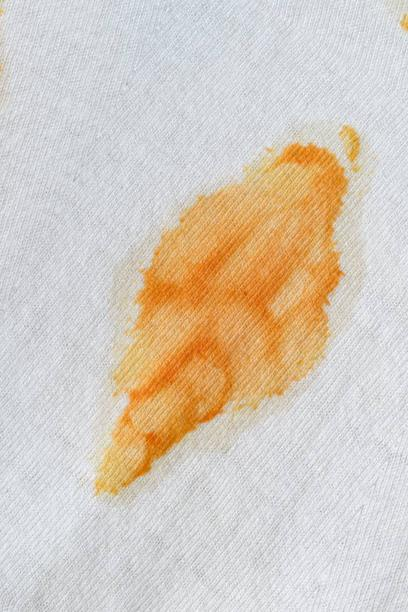stain: (89, 117, 360, 508)
